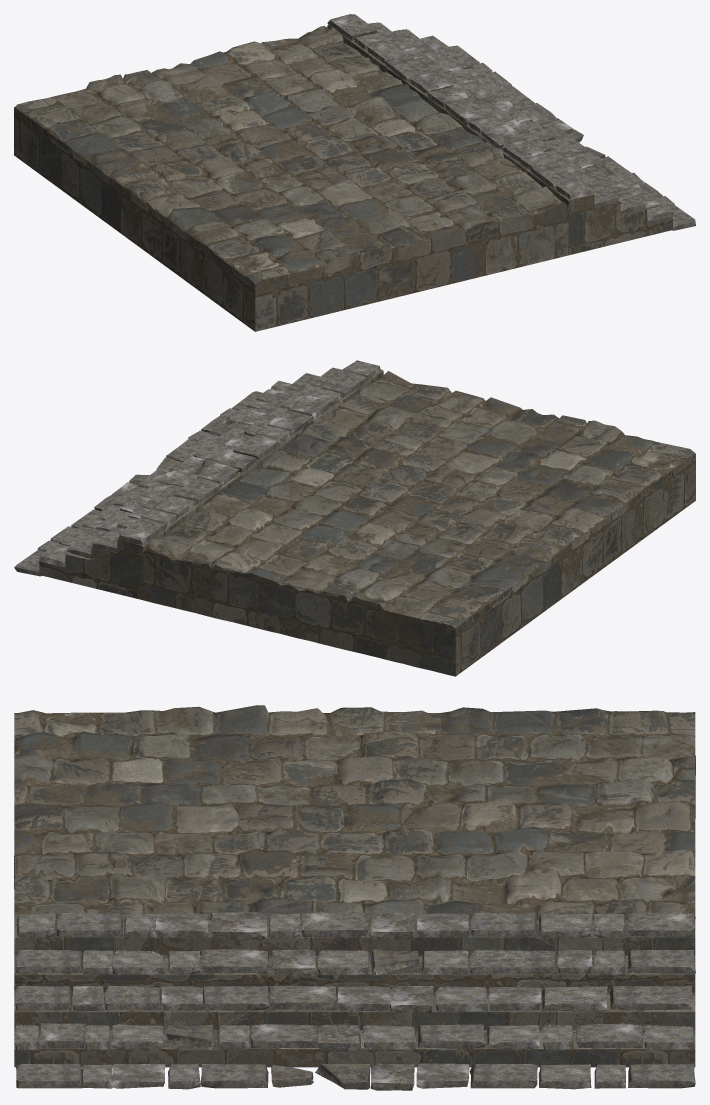
The model's file is SM_Walkway_4x4_01.fbx.
3 views of the same model, one above another, from view 1: azimuth 30°, elevation 25°; view 2: azimuth 150°, elevation 25°; view 3: azimuth 270°, elevation 25° (orthographic). The views are drawn at different scales.
Visible parts, largest first — view 1: SM_Walkway_4x4_01_LOD0; view 2: SM_Walkway_4x4_01_LOD0; view 3: SM_Walkway_4x4_01_LOD0.
Part boxes in pixels (box(x1,y1,x2,y2)): SM_Walkway_4x4_01_LOD0: box(14, 14, 695, 331); SM_Walkway_4x4_01_LOD0: box(14, 360, 695, 676); SM_Walkway_4x4_01_LOD0: box(14, 705, 695, 1090).
Size of the model in its own units: 427 by 401 by 57.69.
